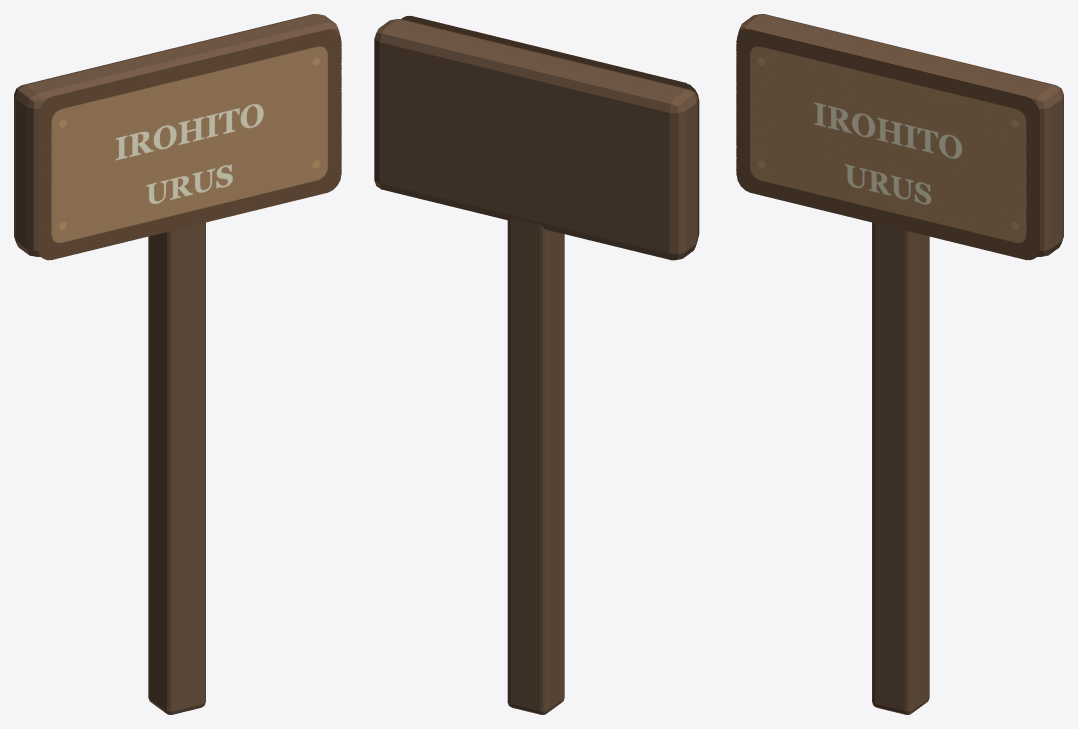
File: M3D_RA1_pueblo.fbx
The picture shows the model from 3 angles, left to right: view 1: azimuth 30°, elevation 25°; view 2: azimuth 150°, elevation 25°; view 3: azimuth 330°, elevation 25°; orthographic projection.
Parts seen in each view (by area): view 1: SM_pueblo; view 2: SM_pueblo; view 3: SM_pueblo.
Part boxes in pixels (<box>): SM_pueblo: <box>14,14,341,714</box>; SM_pueblo: <box>374,16,699,714</box>; SM_pueblo: <box>736,14,1063,714</box>.
Bounding box in the file's own units: 0.7 × 1.39 × 0.094.
